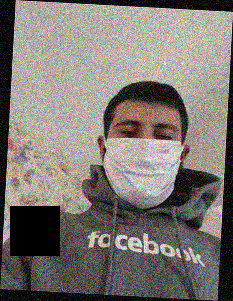with_mask: (104, 113, 182, 206)
